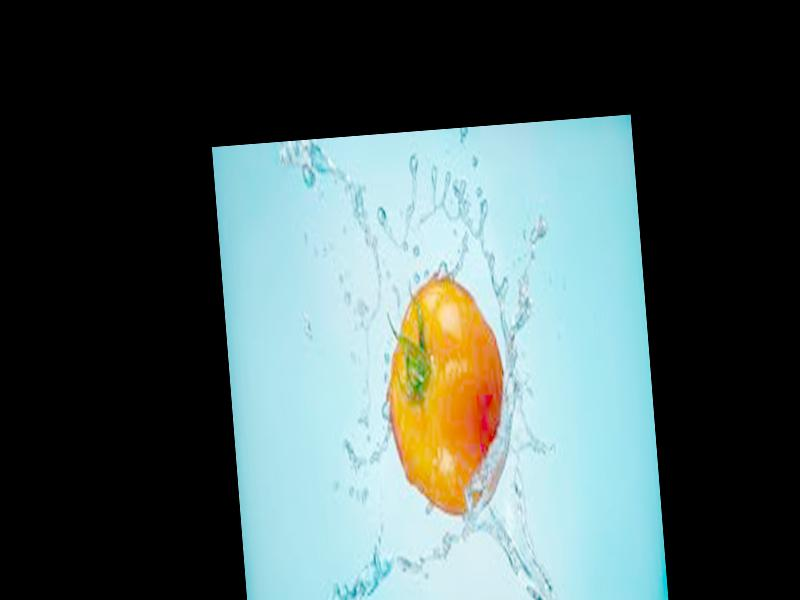Tomato: (380, 271, 516, 519)
